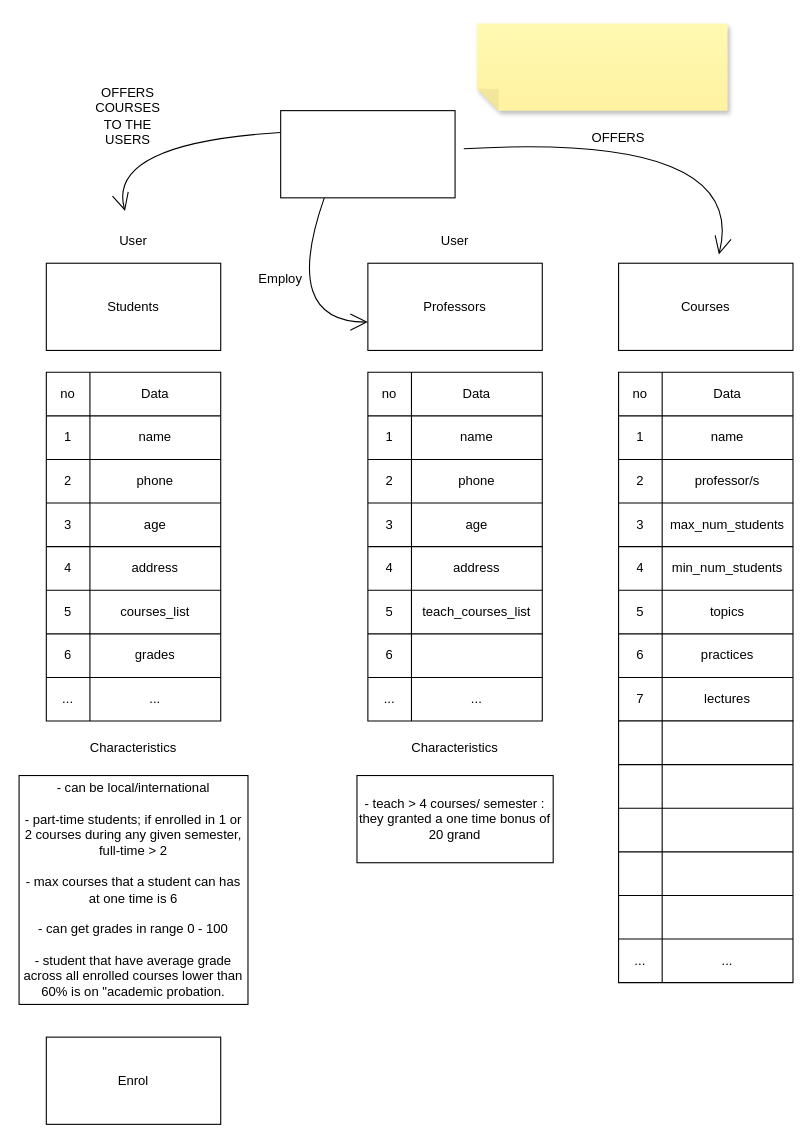
This 812x1143 diagram has some shape labels left out. Each missing label, with the centre of its shape:
SCHOOL OF PROGRAMMERS: (x=367, y=154)
the system will be reset and updated at the end of each semester: (x=603, y=68)
